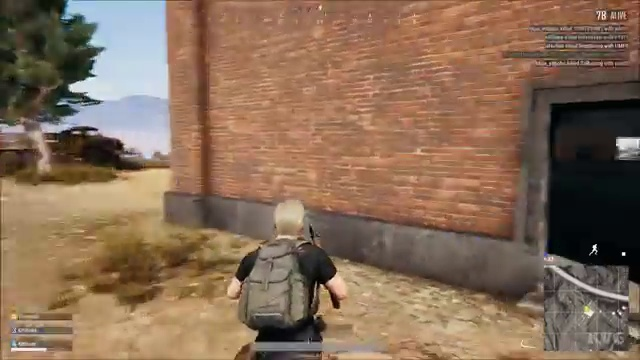Player: (212, 190, 369, 319)
